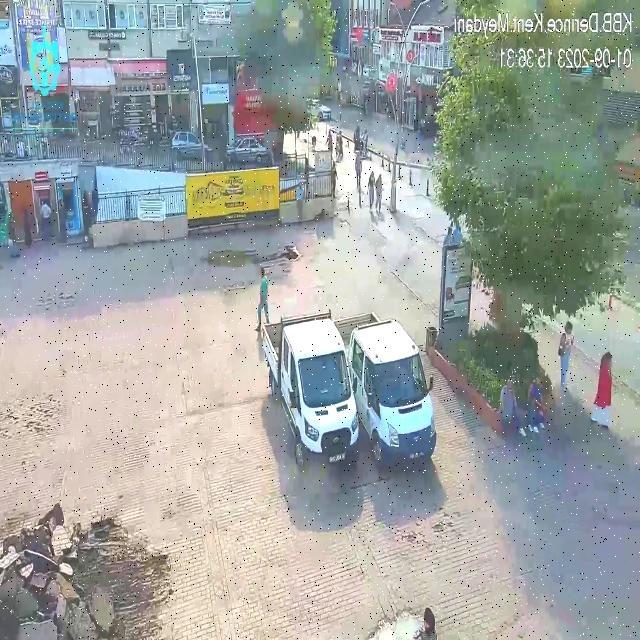Car: (220, 135, 269, 166), (170, 130, 215, 162)
Truck: (332, 308, 438, 472), (259, 307, 362, 472)
